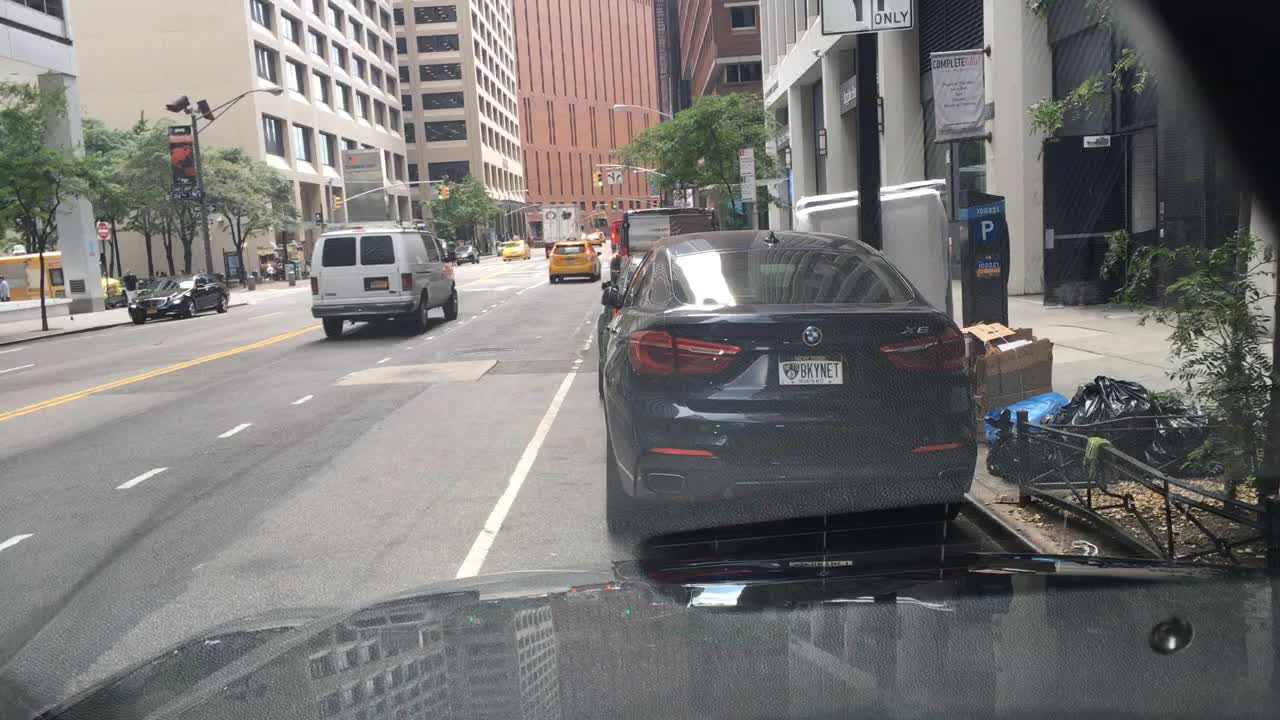bus: (0, 240, 129, 303)
car: (601, 225, 975, 556), (308, 218, 460, 340), (609, 206, 759, 276), (124, 271, 232, 326), (595, 247, 656, 315), (547, 238, 603, 282), (502, 235, 531, 261), (455, 242, 482, 261), (438, 234, 457, 259), (585, 228, 611, 246), (446, 239, 461, 260), (586, 233, 603, 247), (496, 239, 508, 254), (597, 230, 608, 242)
person: (1, 275, 13, 303), (266, 262, 275, 280)
traffic light: (331, 195, 342, 208), (596, 174, 605, 186), (436, 186, 443, 201), (590, 171, 597, 185), (443, 185, 451, 197), (610, 200, 619, 209)
traffic sign: (821, 2, 915, 37), (735, 146, 759, 178), (738, 181, 759, 209), (606, 170, 623, 182), (97, 223, 108, 240)
truck: (539, 198, 586, 257)
